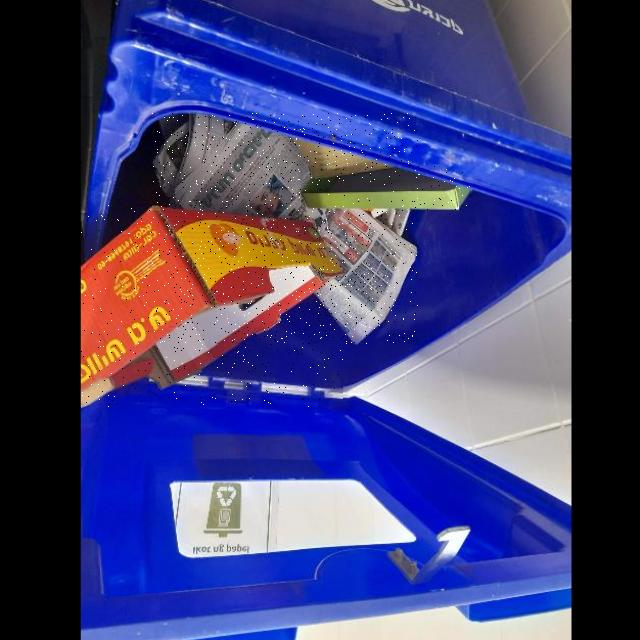paper: (152, 113, 418, 344), (81, 205, 343, 407), (301, 166, 471, 210)
